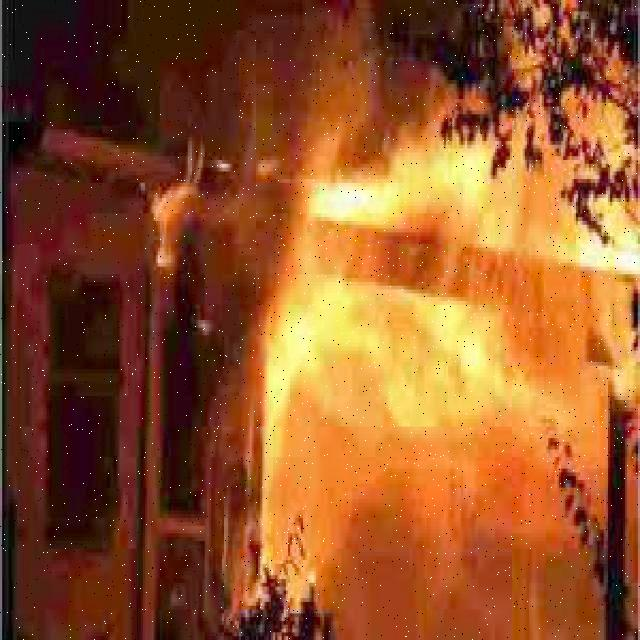fire: (270, 164, 640, 550)
